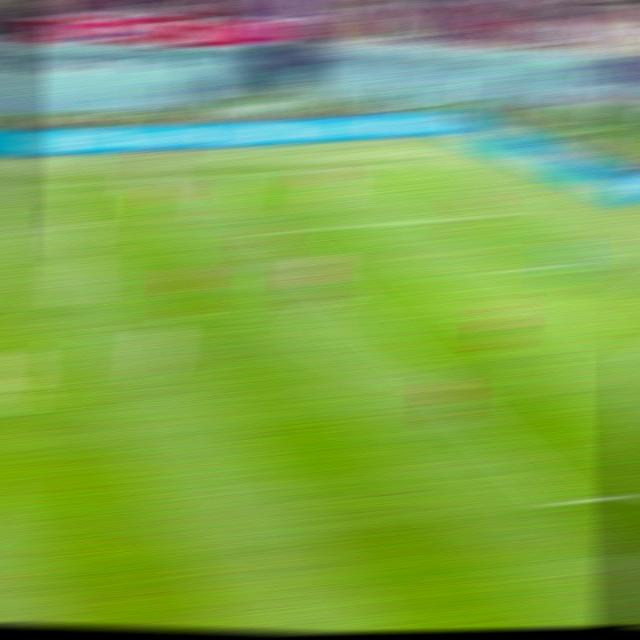bigarea_bottom_inner: (545, 489, 584, 515)
bigarea_top_inner: (256, 228, 286, 239)
bigarea_top_outter: (496, 206, 528, 217)
bottom_arc_area_intersection: (424, 381, 458, 396)
corner: (414, 161, 444, 166)
smallarea_top_inner: (494, 264, 526, 277)
smallarea_top_outter: (576, 255, 608, 267)
top_arc_area_intersection: (325, 288, 356, 302)
